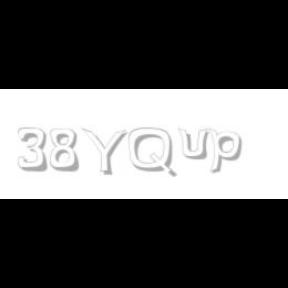3: (17, 128, 48, 172)
8: (50, 128, 78, 172)
Q: (129, 128, 175, 178)
Y: (81, 128, 127, 176)
p: (208, 128, 246, 174)
u: (178, 128, 212, 160)
